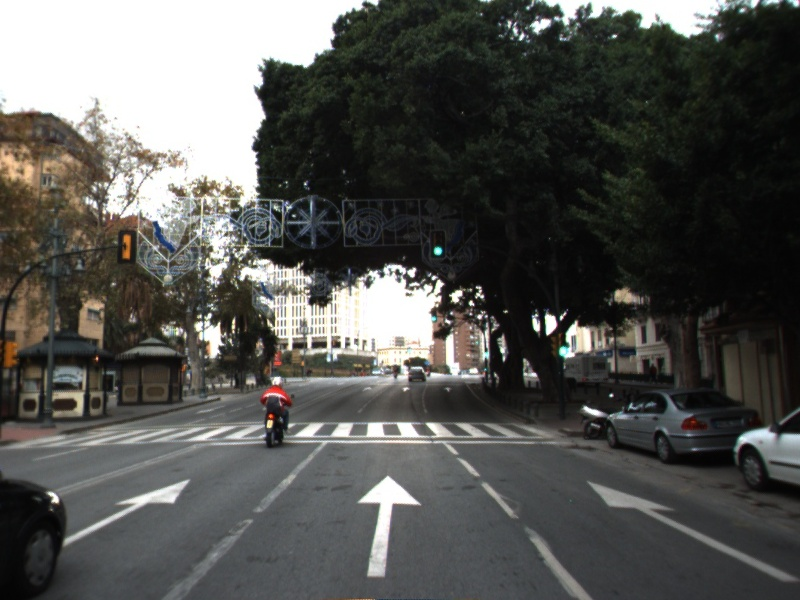STRAIGHT: (581, 476, 800, 584), (61, 473, 194, 548), (353, 470, 427, 581)
